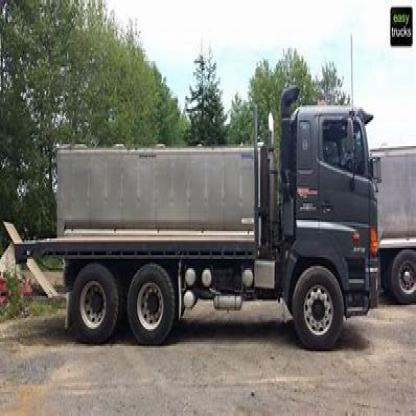dump_truck: (20, 41, 379, 372)
